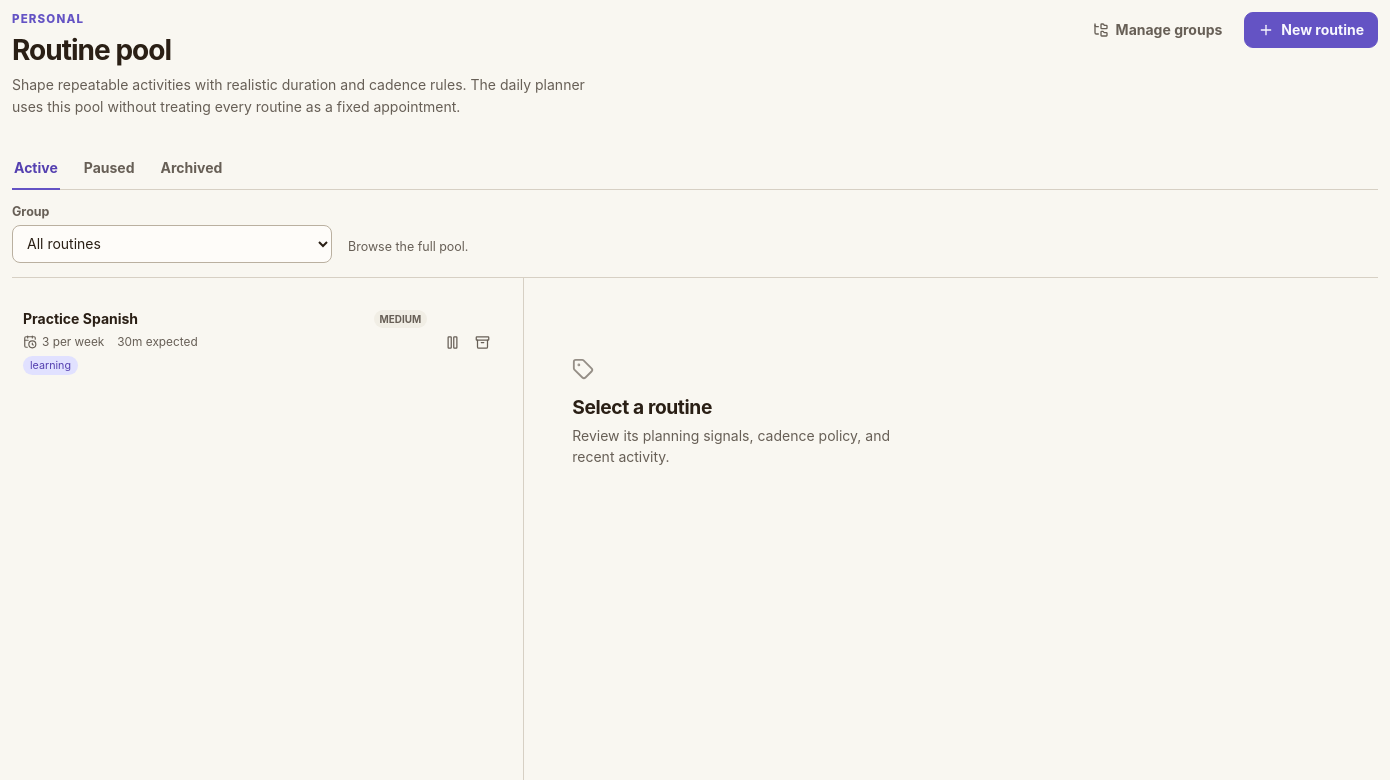
Test: routine pool › explains when more completed sessions are needed for duration learning
Click the button "Practice Spanish" at (81, 319), box [13, 297, 437, 388]
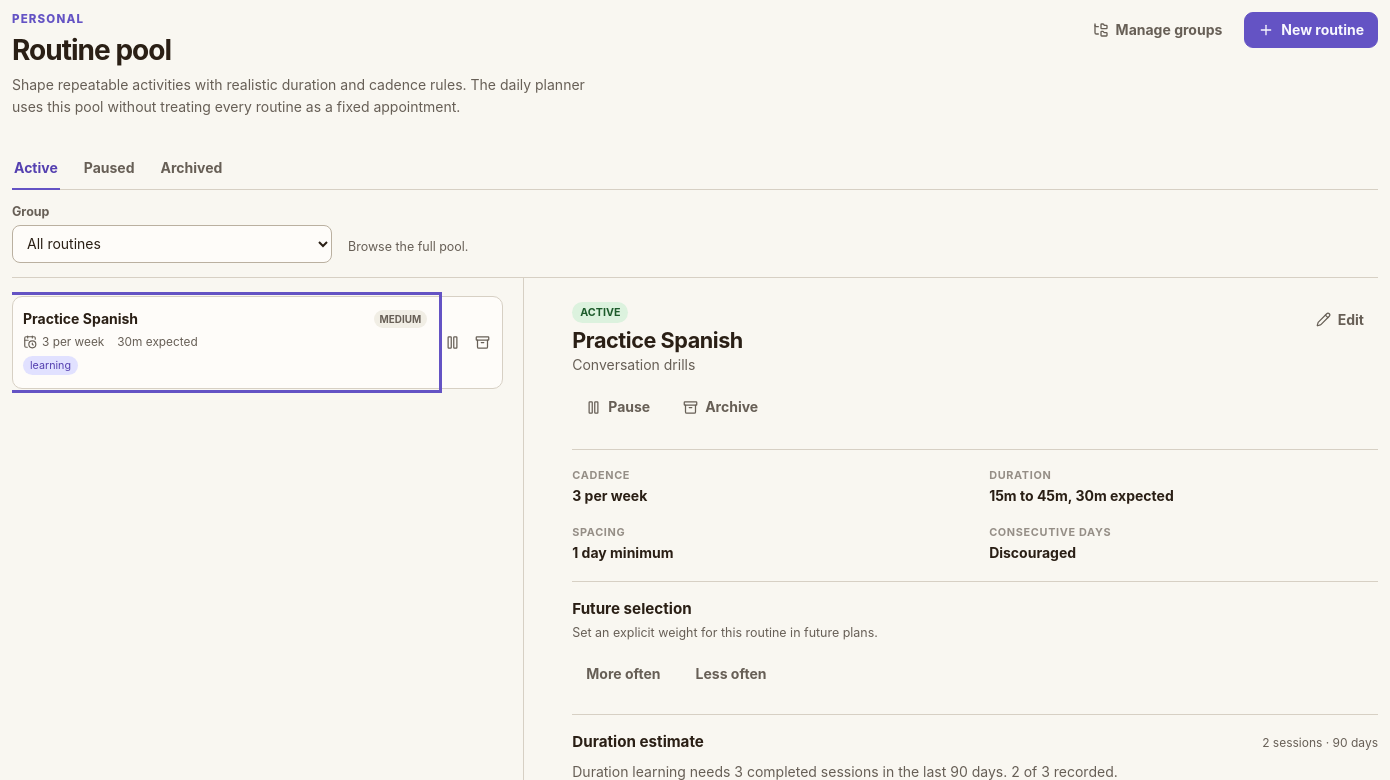
Check: the text "2 sessions · 90 days" is shown, box [1262, 735, 1378, 750]
